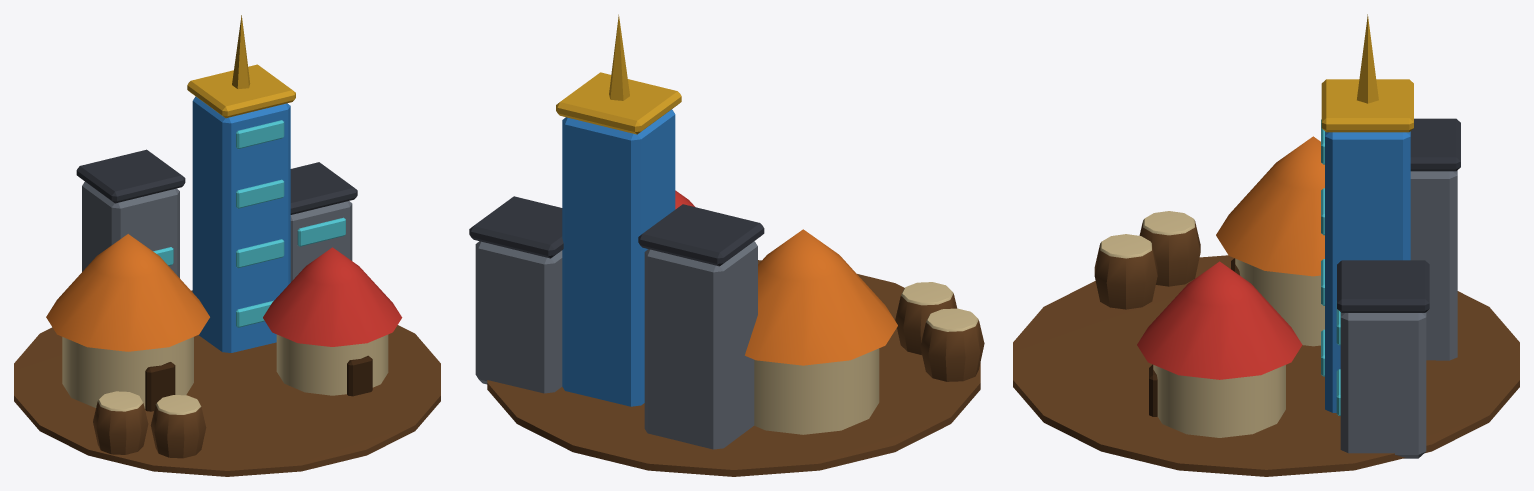
3 views of the same model, side by side, from view 1: azimuth 30°, elevation 25°; view 2: azimuth 150°, elevation 25°; view 3: azimuth 270°, elevation 25° (orthographic). The views are drawn at different scales.
Visible parts, largest first — view 1: vila_0_base, vila_1_torreta; view 2: vila_0_base, vila_1_torreta; view 3: vila_0_base, vila_1_torreta.
Boxes of the visible parts, x1,y1,x2,y2 form: vila_0_base: (14,64,440,476); vila_1_torreta: (232,15,250,89); vila_0_base: (469,72,984,476); vila_1_torreta: (609,14,629,100); vila_0_base: (1013,79,1519,476); vila_1_torreta: (1357,14,1378,103).
Bounding box in the file's own units: 1.32 × 1.1 × 1.3.
